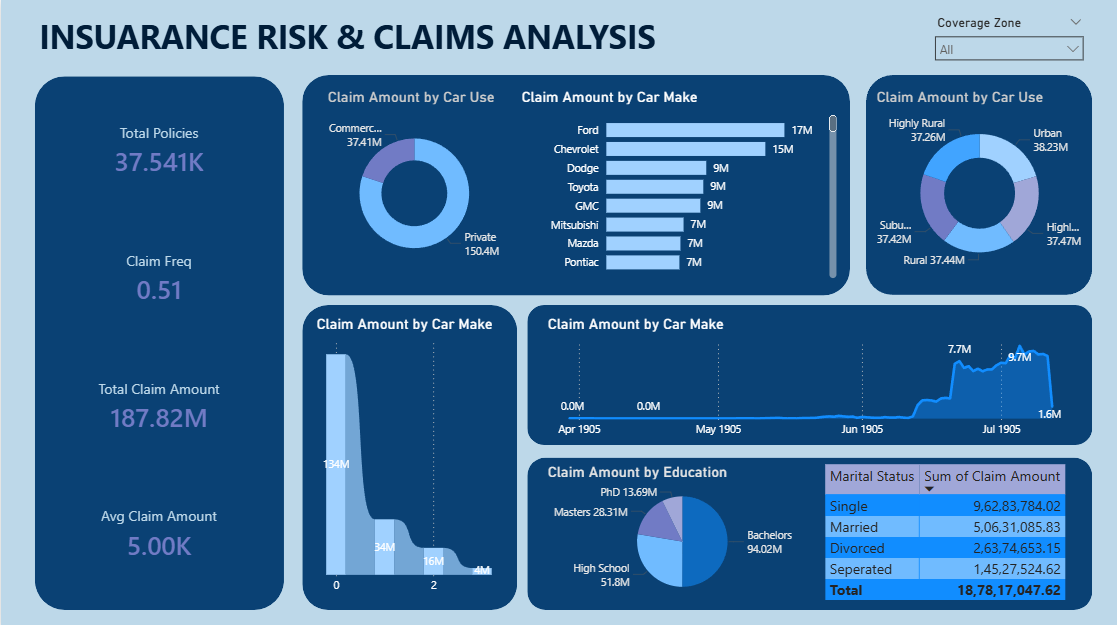

What the dashboard file says about the page in this screenshot:
{"tool":"powerbi","page":{"name":"Page 1","canvas":[1280,720],"ordinal":0},"visuals":[{"type":"textbox","box":[38.3,11.7,820,75],"z":0},{"type":"shape","box":[38.3,86.7,285,610],"z":1000},{"type":"cardVisual","fields":{"Data":["Count(insurance_data_car.ID)","Avg(insurance_data_car.Claim Freq)","Sum(insurance_data_car.Claim Amount)","Avg(insurance_data_car.Claim Amount)"]},"box":[38,62.6,284.7,609.8],"z":2000},{"type":"shape","box":[344,86,626,252],"z":3000},{"type":"donutChart","title":"Claim Amount by Car Use","fields":{"Y":["Sum(insurance_data_car.Claim Amount)"],"Category":["insurance_data_car.Car Use"]},"box":[369,100,208,223],"z":4000},{"type":"barChart","title":"Claim Amount by Car Make","fields":{"Category":["insurance_data_car.Car Make"],"Y":["Sum(insurance_data_car.Claim Amount)"]},"box":[590,100,370,223],"z":5000},{"type":"shape","box":[344.3,348.6,245.7,348.6],"z":6000},{"type":"shape","box":[988.6,85.7,258.6,251.4],"z":7000},{"type":"shape","box":[601.4,348.6,645.7,160],"z":8000},{"type":"shape","box":[601.4,522.9,645.7,174.3],"z":9000},{"type":"donutChart","title":"Claim Amount by Car Use","fields":{"Y":["Sum(insurance_data_car.Claim Amount)"],"Category":["insurance_data_car.Coverage Zone"]},"box":[995.7,100,245.7,222.9],"z":10000},{"type":"ribbonChart","title":"Claim Amount by Car Make","fields":{"Category":["insurance_data_car.Kids Driving"],"Y":["Sum(insurance_data_car.Claim Amount)"]},"box":[355.7,360,221.4,327.1],"z":11000},{"type":"areaChart","title":"Claim Amount by Car Make","fields":{"Y":["Sum(insurance_data_car.Claim Amount)"],"Category":["insurance_data_car.Car Year"]},"box":[620,360,608.6,148.6],"z":12000},{"type":"pieChart","fields":{"Y":["Sum(insurance_data_car.Claim Amount)"],"Category":["insurance_data_car.Education"]},"box":[619.6,528.8,317.8,162],"z":13000},{"type":"pivotTable","fields":{"Values":["Sum(insurance_data_car.Claim Amount)"],"Rows":["insurance_data_car.Marital Status"]},"box":[937.4,525.2,326.4,168.1],"z":14000}]}

Visuals, with their boxes in screenshot pixels (x1, y1, x2, y2), scaled from the page's 1280x720 canvas onto the 1117x625 screenshot:
textbox: [left=33, top=10, right=749, bottom=75]
shape: [left=33, top=75, right=282, bottom=605]
cardVisual - Count(insurance_data_car.ID) x Avg(insurance_data_car.Claim Freq): [left=33, top=54, right=282, bottom=584]
shape: [left=300, top=75, right=846, bottom=293]
"Claim Amount by Car Use" donutChart: [left=322, top=87, right=504, bottom=280]
"Claim Amount by Car Make" barChart: [left=515, top=87, right=838, bottom=280]
shape: [left=300, top=303, right=515, bottom=605]
shape: [left=863, top=74, right=1088, bottom=293]
shape: [left=525, top=303, right=1088, bottom=441]
shape: [left=525, top=454, right=1088, bottom=605]
"Claim Amount by Car Use" donutChart: [left=869, top=87, right=1083, bottom=280]
"Claim Amount by Car Make" ribbonChart: [left=310, top=312, right=504, bottom=596]
"Claim Amount by Car Make" areaChart: [left=541, top=312, right=1072, bottom=441]
pieChart - Sum(insurance_data_car.Claim Amount) x insurance_data_car.Education: [left=541, top=459, right=818, bottom=600]
pivotTable - Sum(insurance_data_car.Claim Amount) x insurance_data_car.Marital Status: [left=818, top=456, right=1103, bottom=602]
